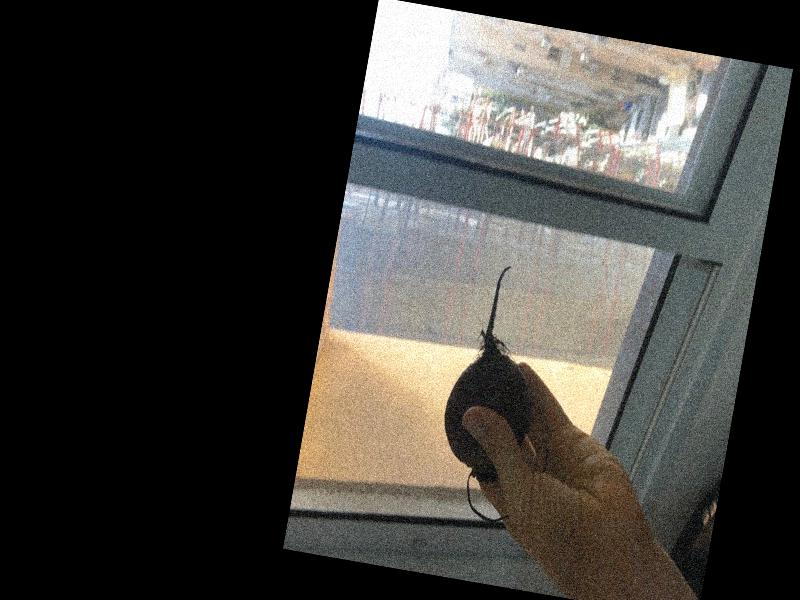Beet: (427, 258, 580, 529)
